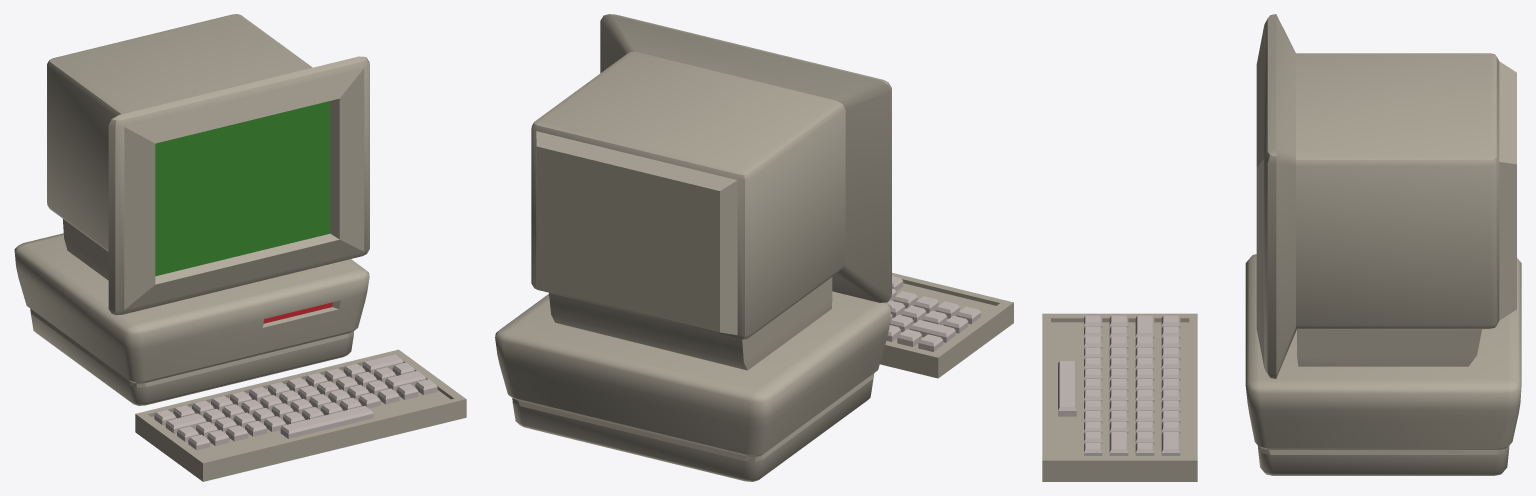
The model's file is computer.glb.
3 renders of one model, left to right at view 1: azimuth 30°, elevation 25°; view 2: azimuth 150°, elevation 25°; view 3: azimuth 270°, elevation 25°, orthographic. The views are drawn at different scales.
Parts seen in each view (by area): view 1: Screen, Base, Cube, Cube.001, Cube.002; view 2: Screen, Base, Cube, Cube.001; view 3: Screen, Base, Cube, Cube.001, Cube.002.
Boxes of the visible parts, <box> form: Screen: <box>47,14,369,315</box>; Base: <box>14,233,369,405</box>; Cube: <box>135,349,466,481</box>; Cube.001: <box>154,354,437,450</box>; Cube.002: <box>280,406,373,438</box>; Screen: <box>531,14,891,370</box>; Base: <box>495,291,891,481</box>; Cube: <box>880,272,1013,378</box>; Cube.001: <box>886,288,980,351</box>; Screen: <box>1256,14,1516,378</box>; Base: <box>1245,254,1521,475</box>; Cube: <box>1042,313,1197,481</box>; Cube.001: <box>1084,315,1180,455</box>; Cube.002: <box>1058,361,1076,416</box>.
Bounding box in the file's own units: 0.8428 × 0.8836 × 1.14.
